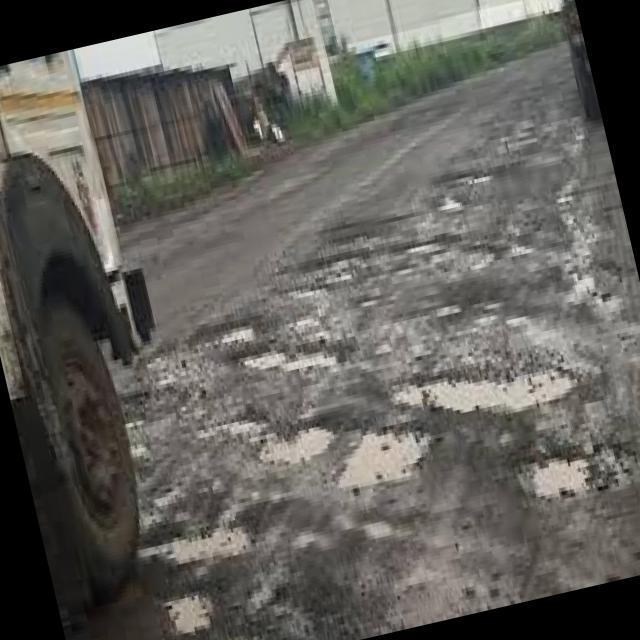Pothole: (412, 374, 574, 414), (335, 429, 430, 491), (221, 322, 322, 373), (525, 457, 613, 503), (573, 252, 618, 324), (150, 528, 227, 566), (242, 417, 312, 452), (364, 437, 391, 480), (169, 597, 202, 632), (459, 240, 501, 264), (409, 239, 450, 259), (432, 301, 462, 320), (545, 474, 565, 496)
